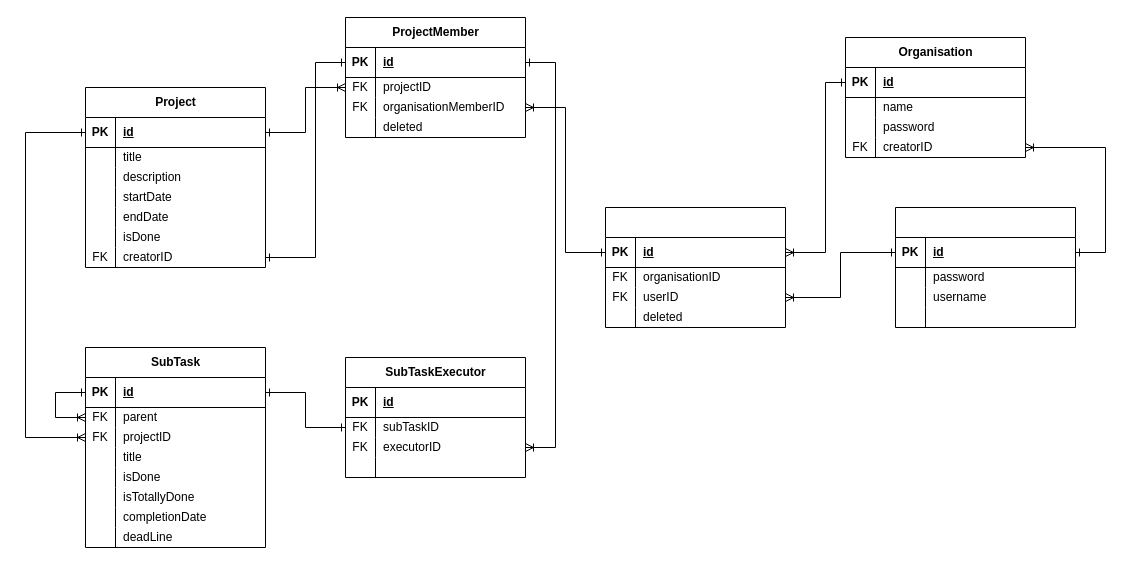
This 1132x565 diagram has some shape labels left out. Each missing label, with the box of its shape:
AppUser: (894, 206, 1076, 328)
OrganisationMember: (604, 206, 786, 328)
